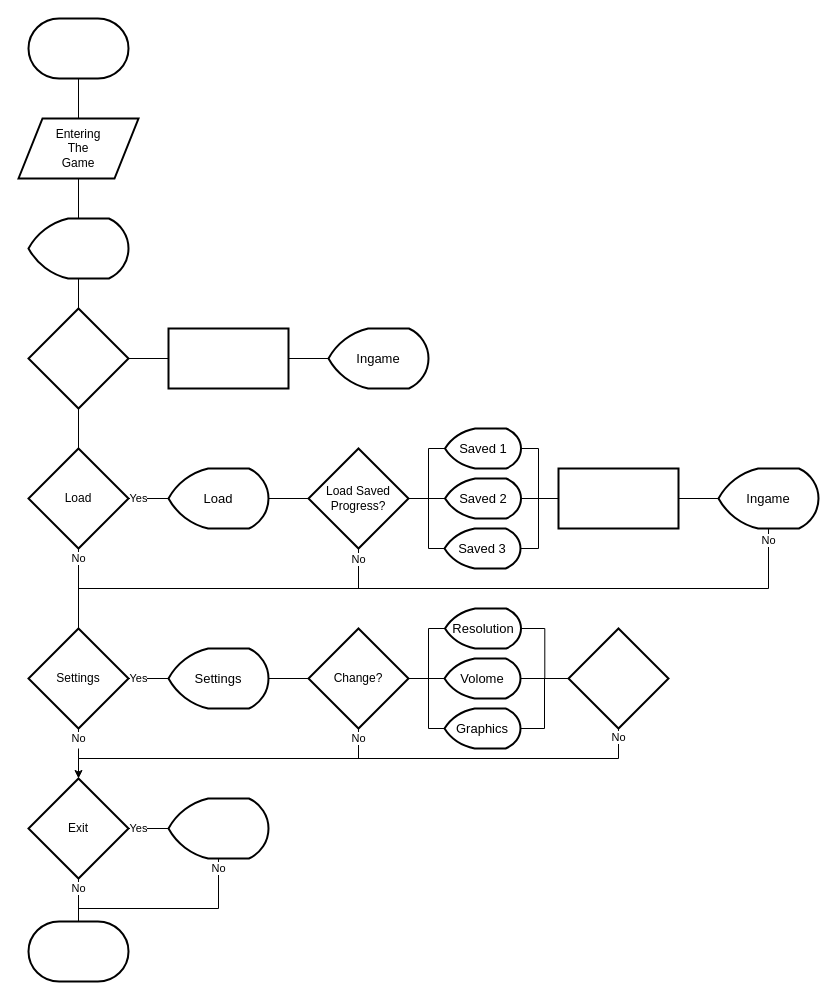
Some shapes in this 836 by 999 pixel diagram are drawn without their labels. The centre of each missing label's shape, as x and y in pixels:
"Are you sure you want to exit the game" goes at point (218, 828).
"Continue?" goes at point (618, 678).
"End" goes at point (78, 951).
"Loading Game Data" goes at point (228, 358).
"Loading Progression" goes at point (618, 498).
"Start" goes at point (78, 48).
"Start Game" goes at point (78, 358).
"Start Menu" goes at point (78, 248).
